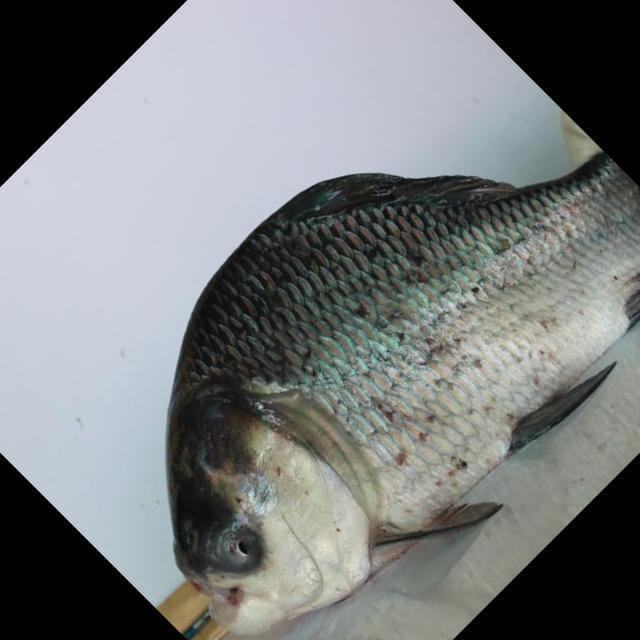Catla: (132, 146, 640, 629)
